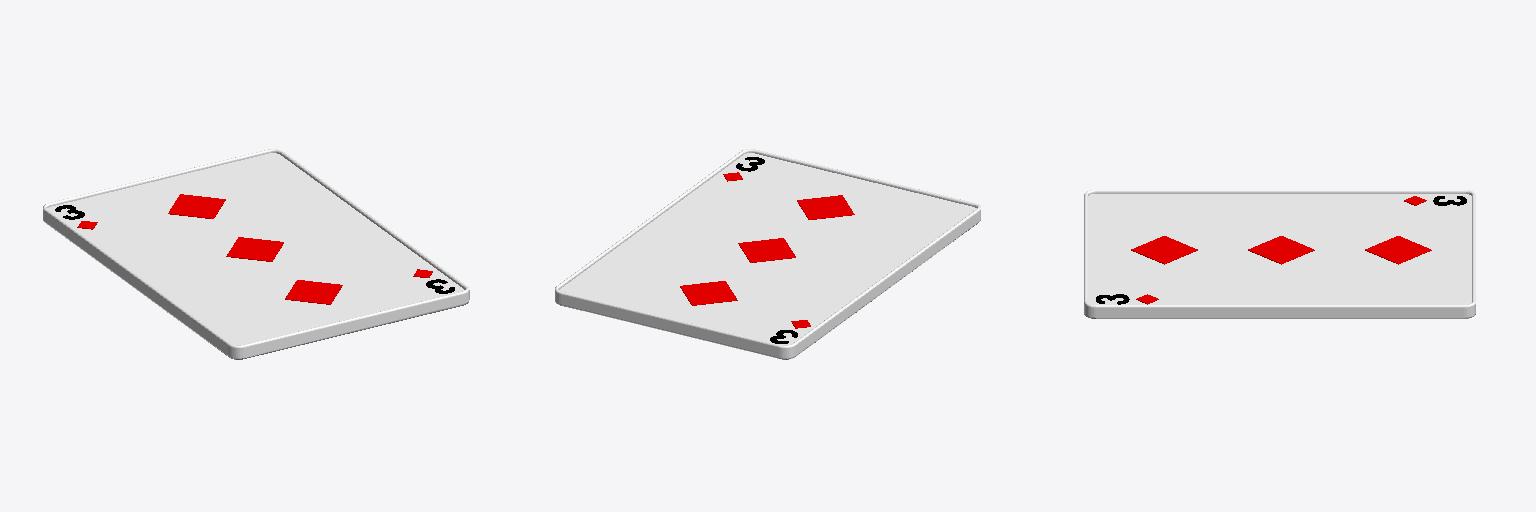
The model's file is diamonds_3.obj.
The picture shows the model from 3 angles: view 1: azimuth 30°, elevation 25°; view 2: azimuth 150°, elevation 25°; view 3: azimuth 270°, elevation 25°; orthographic projection.
Visible parts, largest first — view 1: rect4266.015, rect4266.069, path4884-1.002, path4884-1-4.002, path4884-1-7.001, rect4266.110; view 2: rect4266.015, rect4266.069, path4884-1-7.001, path4884-1.002, path4884-1-4.002; view 3: rect4266.015, rect4266.069, path4884-1-4.002, path4884-1-7.001, path4884-1.002.
Boxes of the visible parts, box(x1,y1,x2,y2) form: rect4266.015: box(47, 153, 464, 344); rect4266.069: box(43, 149, 469, 358); path4884-1.002: box(168, 194, 225, 218); path4884-1-4.002: box(285, 280, 342, 304); path4884-1-7.001: box(226, 237, 283, 261); rect4266.110: box(46, 223, 468, 359); rect4266.015: box(559, 153, 976, 344); rect4266.069: box(555, 149, 980, 358); path4884-1-7.001: box(738, 238, 795, 262); path4884-1.002: box(680, 281, 737, 305); path4884-1-4.002: box(797, 195, 854, 219); rect4266.015: box(1088, 194, 1471, 304); rect4266.069: box(1084, 190, 1475, 318); path4884-1-4.002: box(1131, 236, 1197, 264); path4884-1-7.001: box(1248, 236, 1314, 264); path4884-1.002: box(1365, 236, 1431, 264).
Size of the model in its own units: 2.88 by 0.1966 by 4.08.